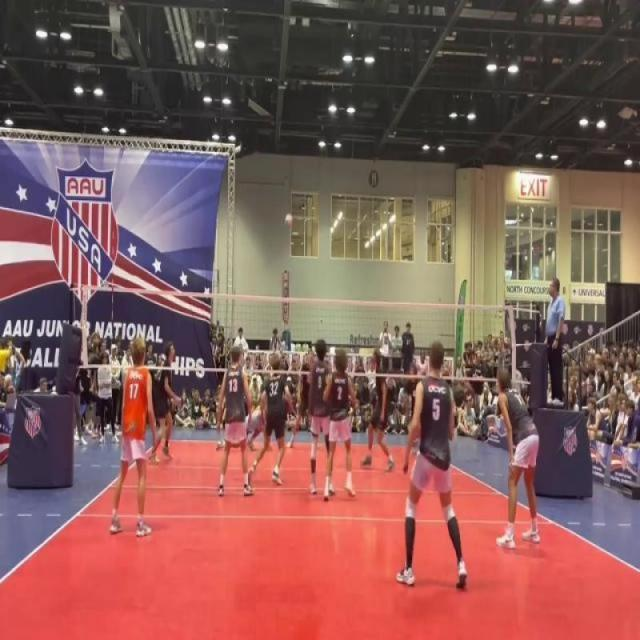volleyball: (284, 212, 292, 232)
